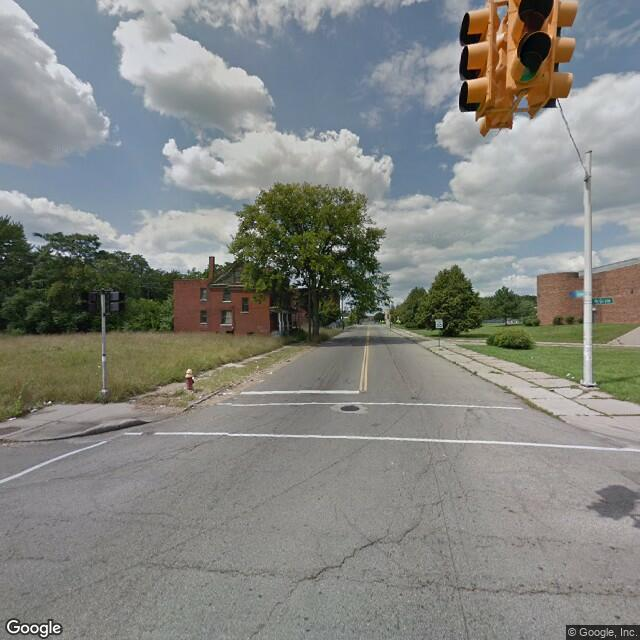litter: (7, 407, 30, 424), (215, 389, 231, 397), (38, 397, 52, 406), (567, 373, 574, 380)
